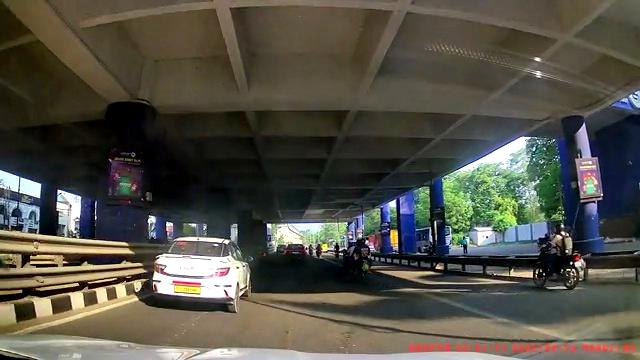motorcycle_with_helmet: (531, 221, 585, 290), (351, 236, 371, 281)
